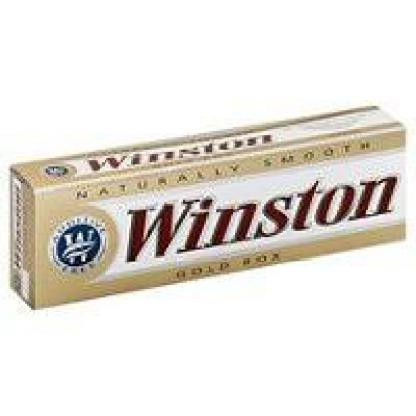CARDBOARD: (9, 104, 402, 308)
